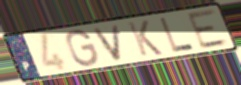4: (39, 31, 68, 74)
E: (185, 7, 231, 51)
G: (65, 28, 100, 68)
K: (126, 19, 165, 58)
L: (158, 16, 196, 53)
V: (91, 22, 125, 63)
